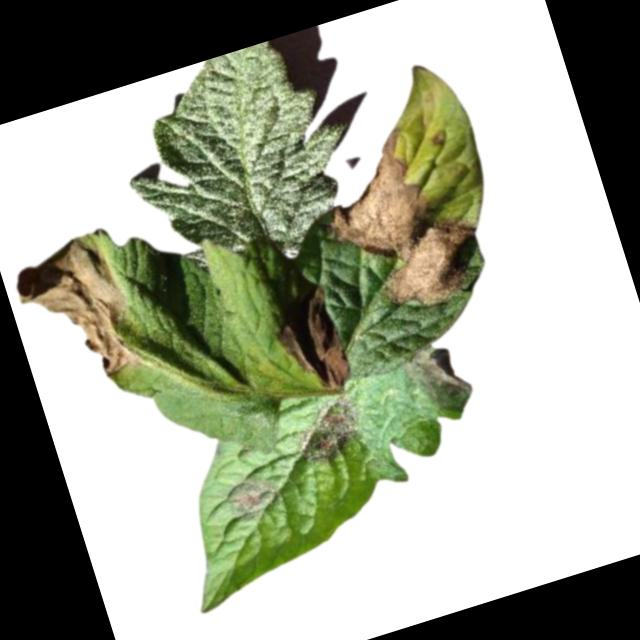Late_blight: (300, 113, 497, 332), (1, 226, 149, 397), (264, 283, 356, 406), (281, 391, 369, 471), (397, 330, 476, 417), (220, 466, 288, 527)
